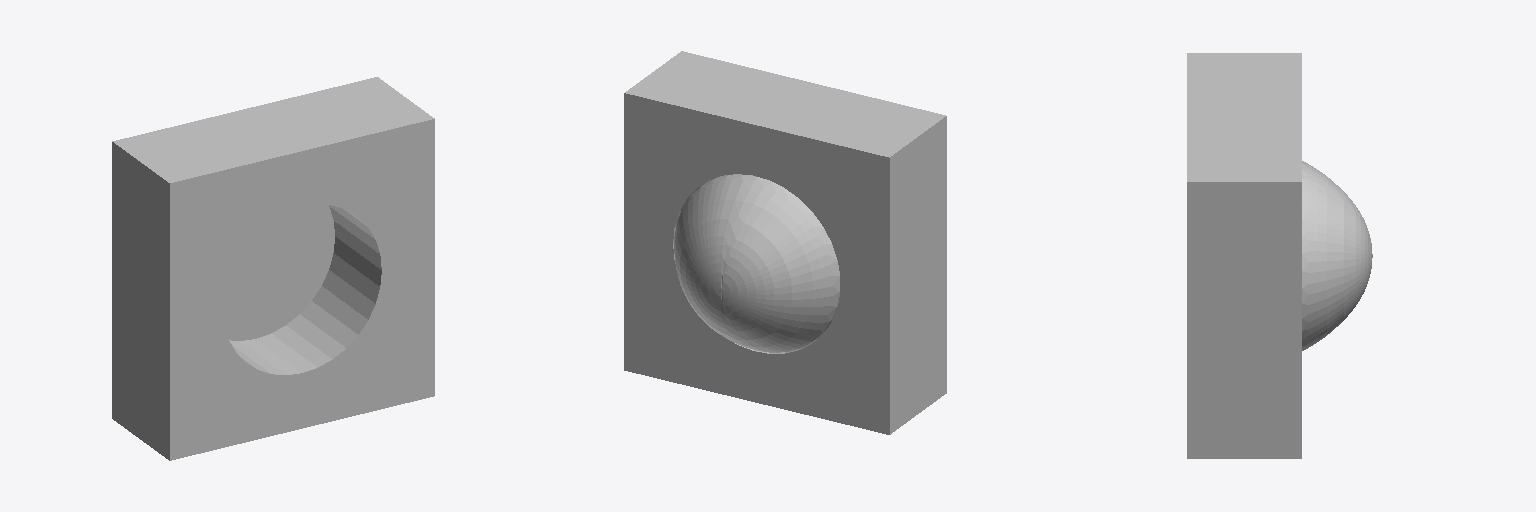
The model's file is Experimental XY stage moving piece for collector v3.obj.
3 views of the same model, side by side, from view 1: azimuth 30°, elevation 25°; view 2: azimuth 150°, elevation 25°; view 3: azimuth 270°, elevation 25° (orthographic).
Parts seen in each view (by area): view 1: Body2, Body1; view 2: Body2, Body1; view 3: Body2, Body1.
Part boxes in pixels (left/top/right/bottom): Body2: left=112, top=77, right=434, bottom=460; Body1: left=223, top=205, right=334, bottom=340; Body2: left=624, top=51, right=946, bottom=434; Body1: left=674, top=174, right=839, bottom=352; Body2: left=1187, top=53, right=1301, bottom=458; Body1: left=1302, top=161, right=1372, bottom=350.
Size of the model in its own units: 4 by 4 by 2.42.